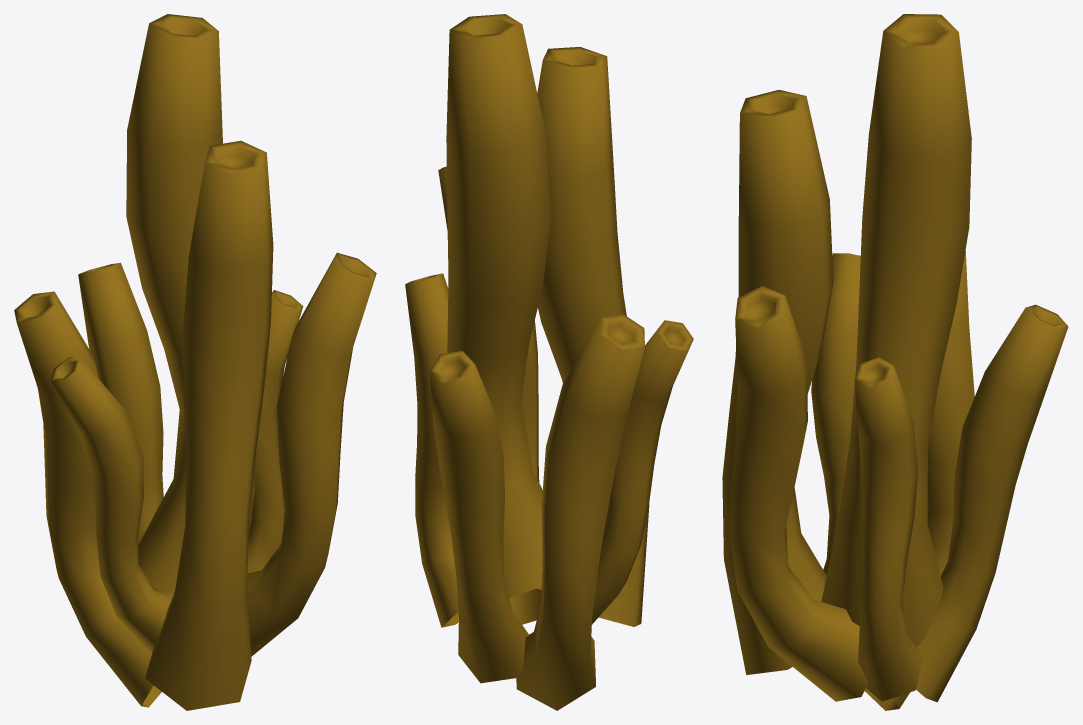
File: koraal3-sakura.fbx
The picture shows the model from 3 angles, left to right: view 1: azimuth 30°, elevation 25°; view 2: azimuth 150°, elevation 25°; view 3: azimuth 270°, elevation 25°; orthographic projection. The views are drawn at different scales.
Visible parts, largest first — view 1: Tube_Low; view 2: Tube_Low; view 3: Tube_Low.
Boxes of the visible parts, x1,y1,x2,y2 form: Tube_Low: [14, 14, 376, 710]; Tube_Low: [405, 14, 693, 710]; Tube_Low: [722, 14, 1068, 710].
Size of the model in its own units: 26.73 by 60.05 by 26.52.
